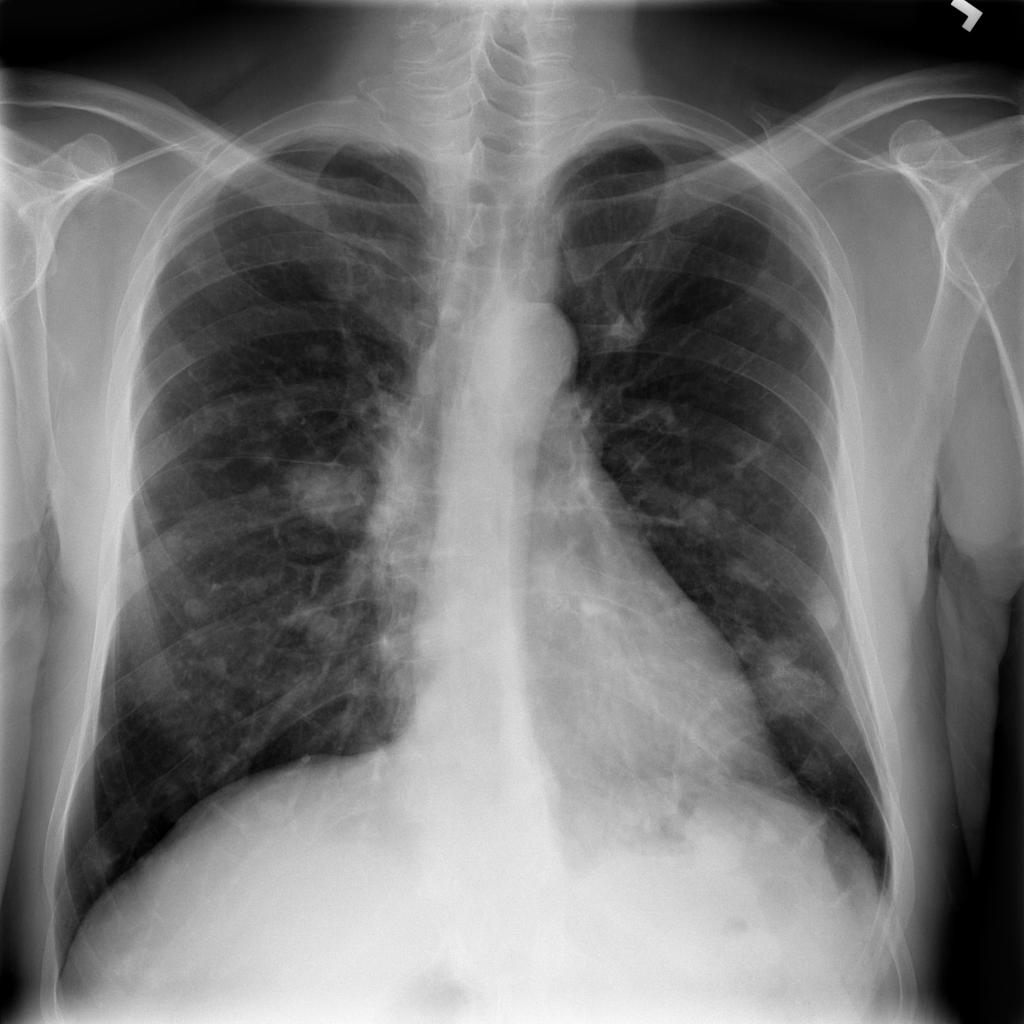nodule: (277, 432, 397, 541), (662, 789, 776, 887), (744, 622, 837, 738), (68, 818, 138, 896), (661, 478, 731, 550), (794, 571, 857, 647), (171, 579, 222, 630), (169, 235, 224, 282), (761, 304, 809, 357), (255, 393, 306, 442), (294, 329, 347, 376)
